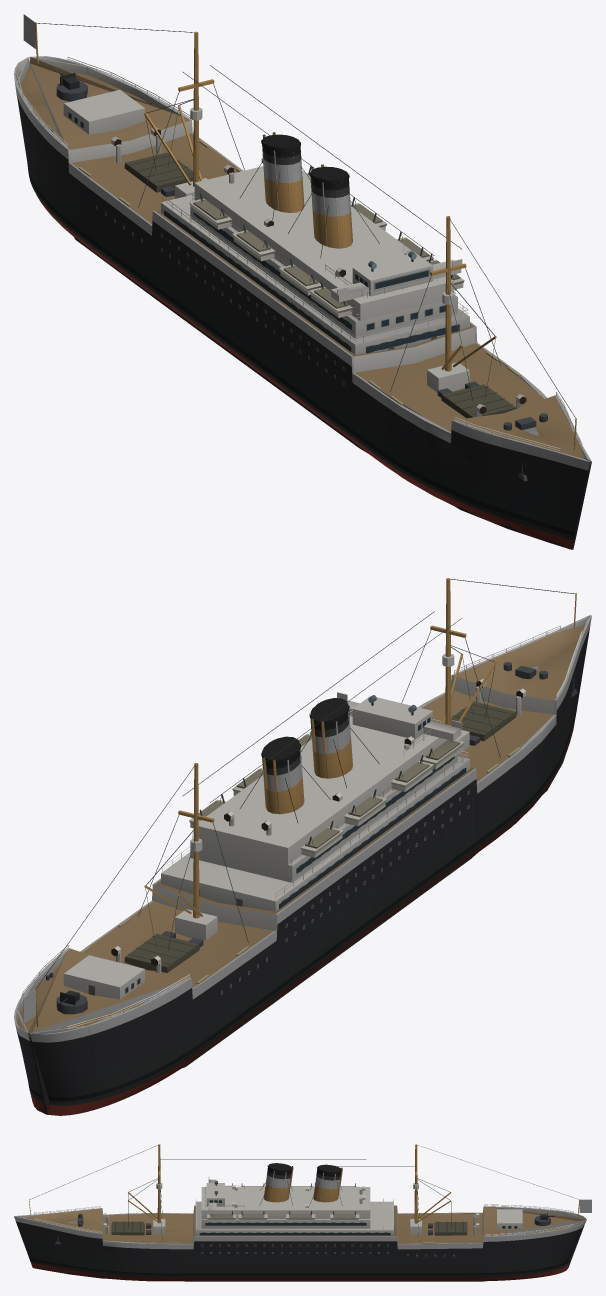
File: ship_any_transport.glb
3 renders of one model, top to bottom at view 1: azimuth 30°, elevation 25°; view 2: azimuth 150°, elevation 25°; view 3: azimuth 270°, elevation 25°, orthographic. The views are drawn at different scales.
Parts seen in each view (by area): view 1: ship_any_transport_LOD0_mesh, ship_any_transport_LOD2_mesh, ship_any_transport_LOD1_mesh, ship_any_transport_LOD0_mainmast_mesh, ship_any_transport_LOD0_foremast_mesh, ship_any_transport_LOD1_mainmast_mesh; view 2: ship_any_transport_LOD0_mesh, ship_any_transport_LOD2_mesh, ship_any_transport_LOD1_mesh, ship_any_transport_LOD0_mainmast_mesh, ship_any_transport_LOD0_foremast_mesh; view 3: ship_any_transport_LOD0_mesh, ship_any_transport_LOD2_mesh, ship_any_transport_LOD1_mesh, ship_any_transport_LOD0_mainmast_mesh, ship_any_transport_LOD0_foremast_mesh, ship_any_transport_LOD1_foremast_mesh.
Boxes of the visible parts, <box> form: ship_any_transport_LOD0_mesh: <box>14,14,591,549</box>; ship_any_transport_LOD2_mesh: <box>28,32,590,548</box>; ship_any_transport_LOD1_mesh: <box>15,27,591,549</box>; ship_any_transport_LOD0_mainmast_mesh: <box>138,31,244,207</box>; ship_any_transport_LOD0_foremast_mesh: <box>390,216,500,391</box>; ship_any_transport_LOD1_mainmast_mesh: <box>145,33,213,185</box>; ship_any_transport_LOD0_mesh: <box>14,579,591,1115</box>; ship_any_transport_LOD2_mesh: <box>28,578,585,1114</box>; ship_any_transport_LOD1_mesh: <box>16,615,591,1110</box>; ship_any_transport_LOD0_mainmast_mesh: <box>138,763,248,942</box>; ship_any_transport_LOD0_foremast_mesh: <box>401,578,500,758</box>; ship_any_transport_LOD0_mesh: <box>14,1145,591,1281</box>; ship_any_transport_LOD2_mesh: <box>25,1144,585,1281</box>; ship_any_transport_LOD1_mesh: <box>14,1163,591,1281</box>; ship_any_transport_LOD0_mainmast_mesh: <box>413,1144,451,1241</box>; ship_any_transport_LOD0_foremast_mesh: <box>128,1144,162,1240</box>; ship_any_transport_LOD1_foremast_mesh: <box>128,1145,160,1222</box>.
Size of the model in its own units: 20.3 by 37.1 by 158.
